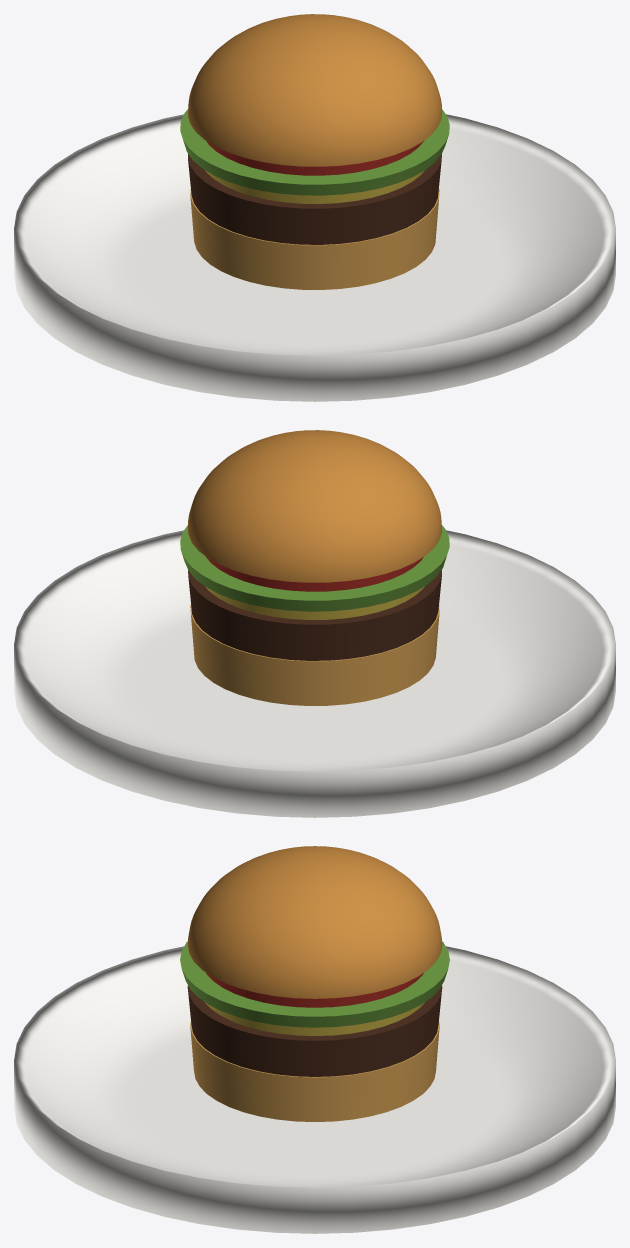
Rendered from burger-1-card.glb.
3 views of the same model, one above another, from view 1: azimuth 30°, elevation 25°; view 2: azimuth 150°, elevation 25°; view 3: azimuth 270°, elevation 25° (orthographic).
Bounding box in the file's own units: 0.26 × 0.1166 × 0.26.
